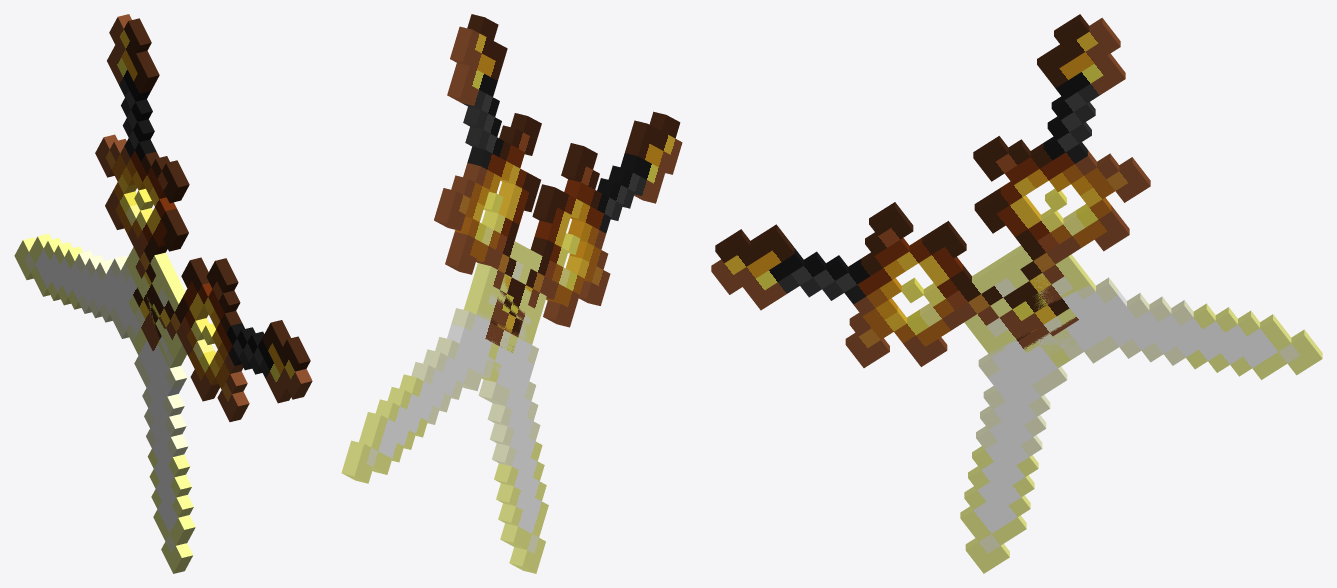
The model's file is dawn_breaker_sword.glb.
The picture shows the model from 3 angles, left to right: view 1: azimuth 30°, elevation 25°; view 2: azimuth 150°, elevation 25°; view 3: azimuth 270°, elevation 25°; orthographic projection. The views are drawn at different scales.
Visible parts, largest first — view 1: off__Tool_L, main__Tool_R; view 2: off__Tool_L, main__Tool_R; view 3: main__Tool_R, off__Tool_L.
Part boxes in pixels (bbox=[...]): off__Tool_L: bbox=[95, 14, 195, 573]; main__Tool_R: bbox=[14, 233, 312, 421]; off__Tool_L: bbox=[434, 14, 548, 573]; main__Tool_R: bbox=[341, 111, 682, 483]; main__Tool_R: bbox=[711, 202, 1322, 379]; off__Tool_L: bbox=[960, 14, 1150, 573].
Size of the model in its own units: 0.0531 by 2.31 by 2.31.
Materials: 1 (1 with a texture image).
